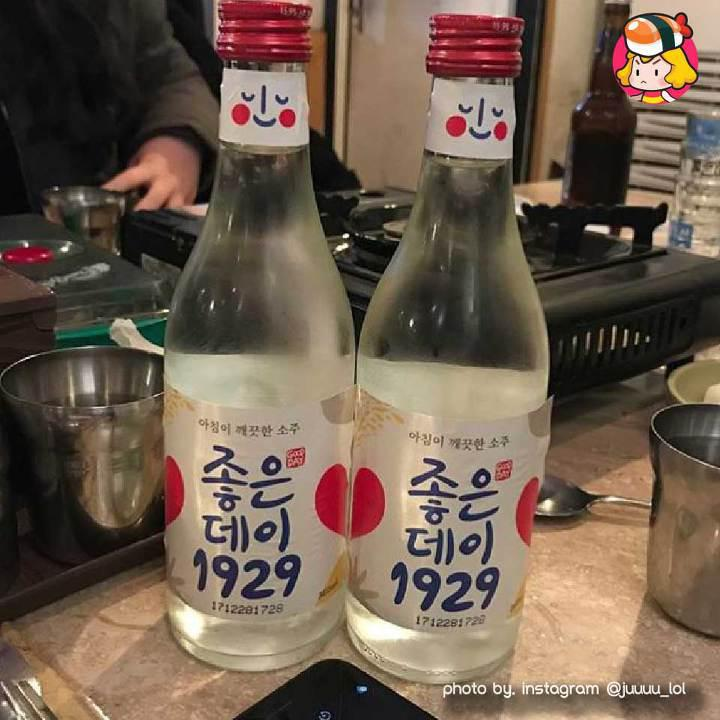soju: (155, 3, 557, 677)
